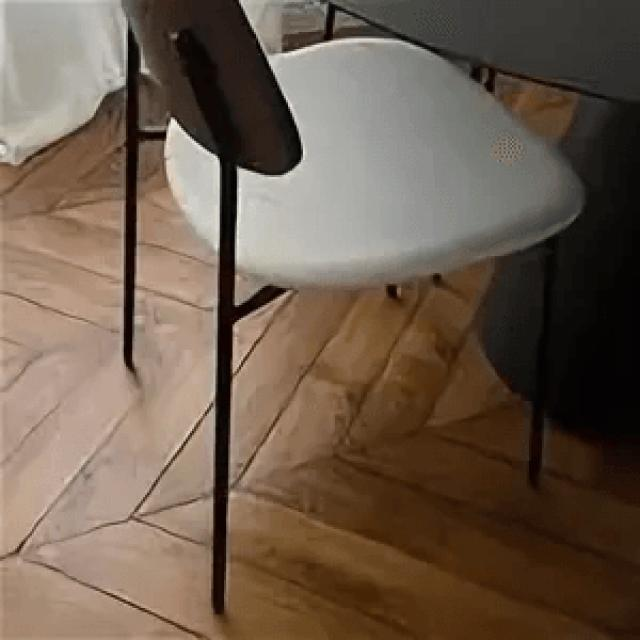chair: (83, 0, 586, 619), (132, 0, 578, 282)
